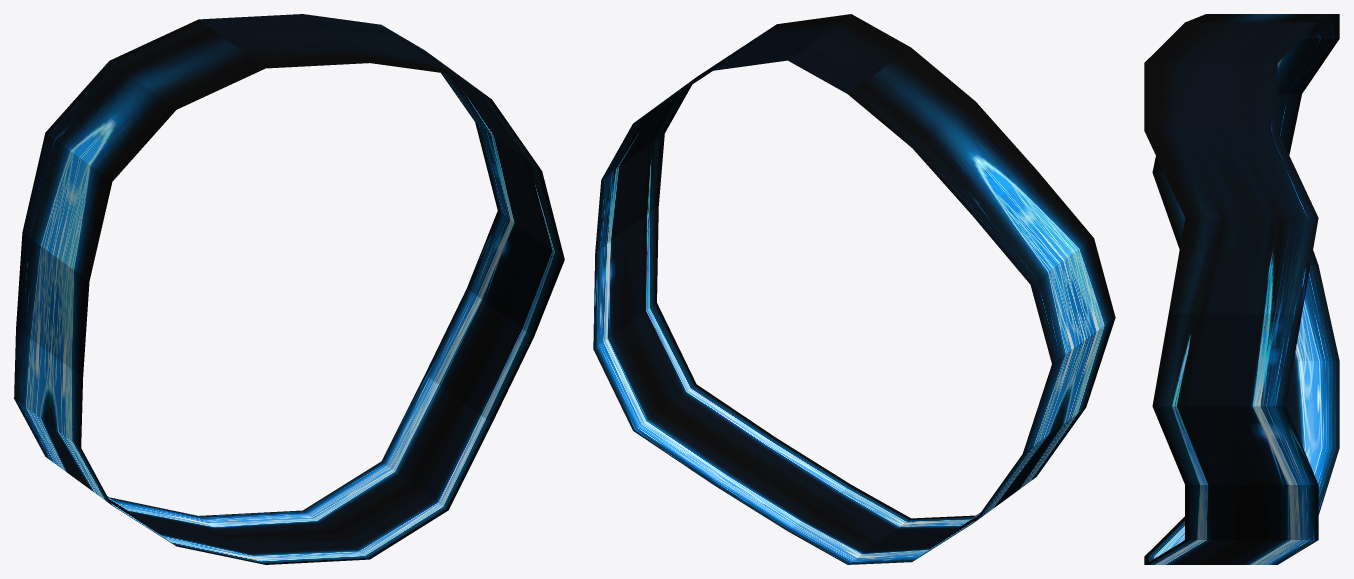
The model's file is tx_xuemai_pingheng_fire.obj.
3 views of the same model, side by side, from view 1: azimuth 30°, elevation 25°; view 2: azimuth 150°, elevation 25°; view 3: azimuth 270°, elevation 25° (orthographic). The views are drawn at different scales.
Visible parts, largest first — view 1: tuaodai; view 2: tuaodai; view 3: tuaodai.
Boxes of the visible parts, box(x1,y1,x2,y2) form: tuaodai: box(14, 14, 564, 564); tuaodai: box(593, 14, 1115, 564); tuaodai: box(1144, 14, 1339, 564).
Bounding box in the file's own units: 112 × 110 × 39.43.
Materials: 1 (1 with a texture image).
